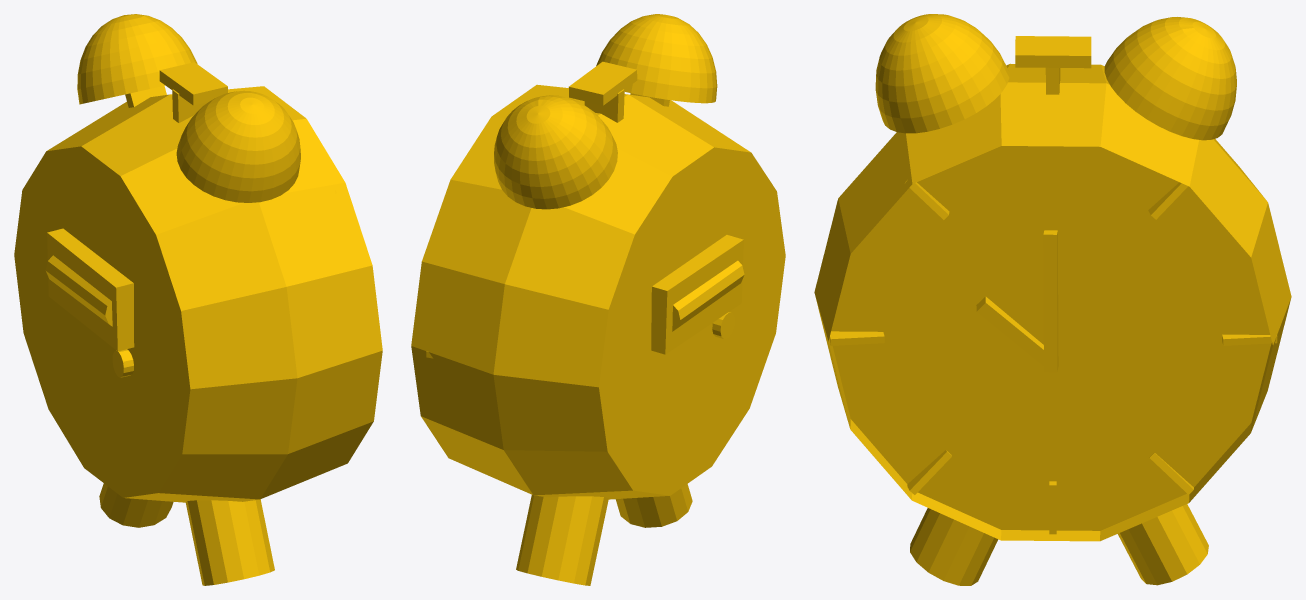
File: SuperPowerClock.obj
The picture shows the model from 3 angles, left to right: view 1: azimuth 30°, elevation 25°; view 2: azimuth 150°, elevation 25°; view 3: azimuth 270°, elevation 25°; orthographic projection. The views are drawn at different scales.
Parts seen in each view (by area): view 1: Handle; view 2: Handle; view 3: Handle.
Part boxes in pixels (x1=…): Handle: x1=14, y1=14, x2=382, y2=585; Handle: x1=411, y1=14, x2=785, y2=585; Handle: x1=814, y1=14, x2=1291, y2=585.
Bounding box in the file's own units: 0.8243 × 1.86 × 1.44.
